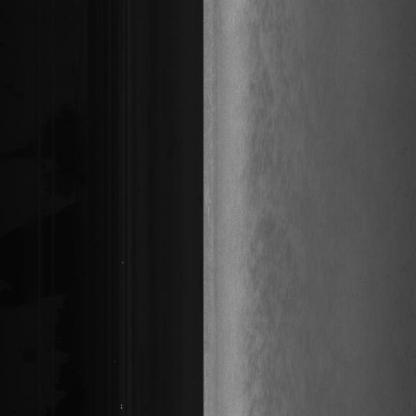silk_spot: (238, 70, 288, 280)
